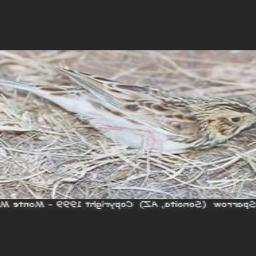Sparrow: (0, 66, 256, 155)
